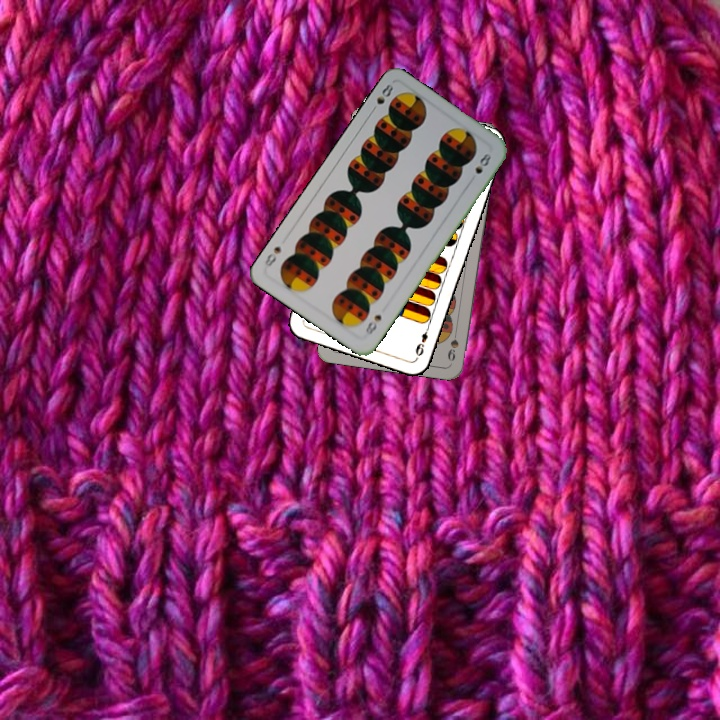E9: (411, 321, 432, 359)
S8: (367, 80, 396, 116), (361, 310, 384, 340)
S9: (443, 324, 461, 364)
